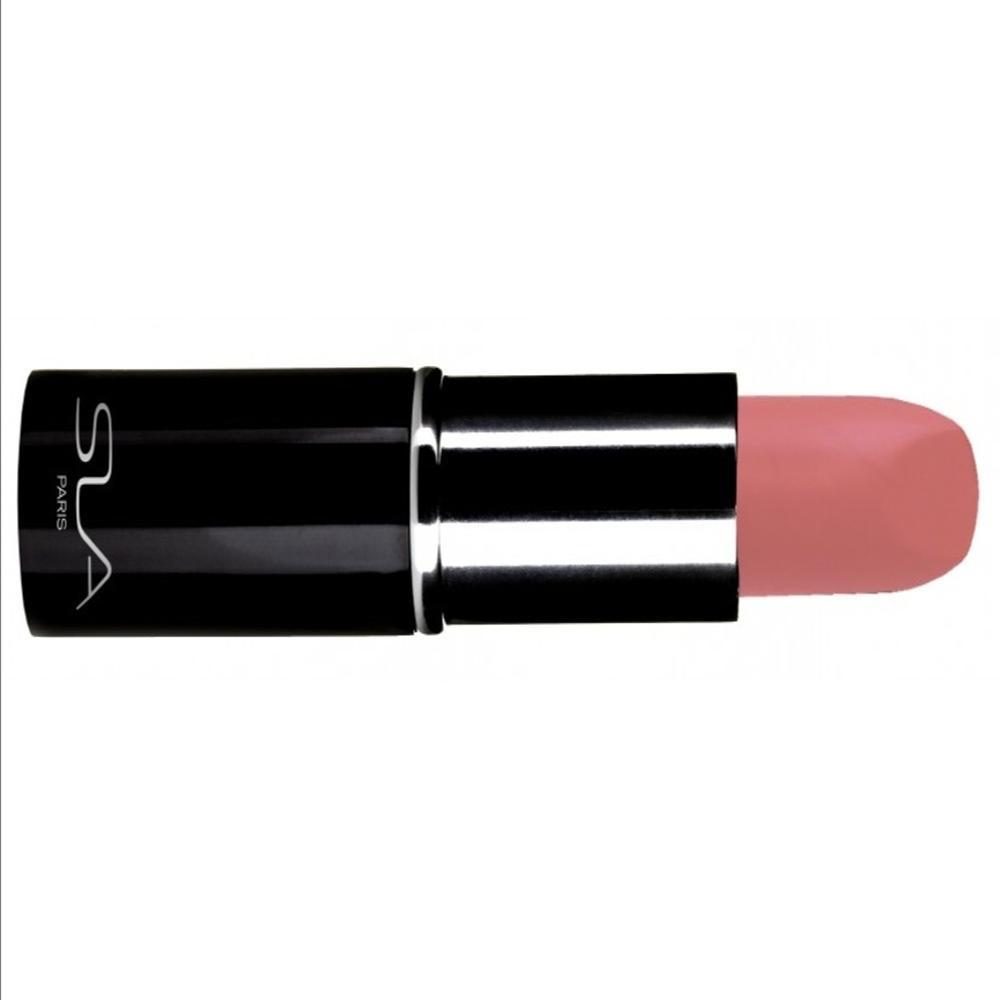lipstick: (18, 314, 1000, 660)
